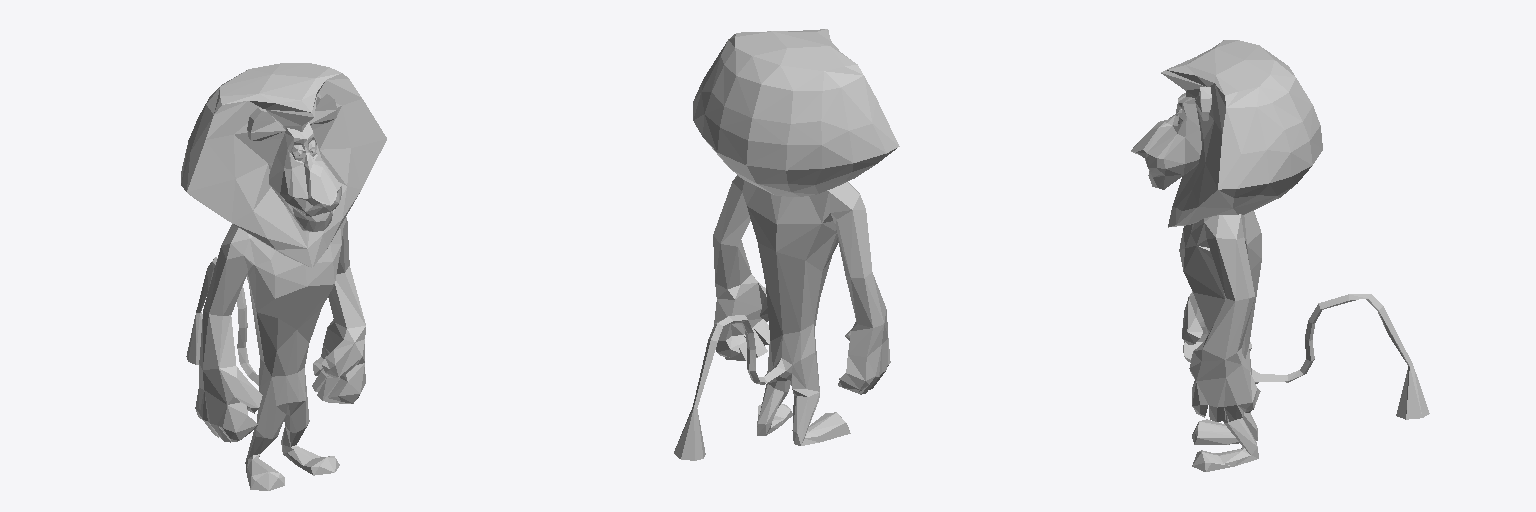
The model's file is alex_leon.obj.
3 views of the same model, side by side, from view 1: azimuth 30°, elevation 25°; view 2: azimuth 150°, elevation 25°; view 3: azimuth 270°, elevation 25° (orthographic).
Visible parts, largest first — view 1: Mesh_0318; view 2: Mesh_0318; view 3: Mesh_0318.
Boxes of the visible parts, box(x1,y1,x2,y2) form: Mesh_0318: box(181, 63, 386, 490); Mesh_0318: box(674, 29, 899, 460); Mesh_0318: box(1131, 40, 1429, 471).
Bounding box in the file's own units: 43.22 × 80.28 × 55.88.